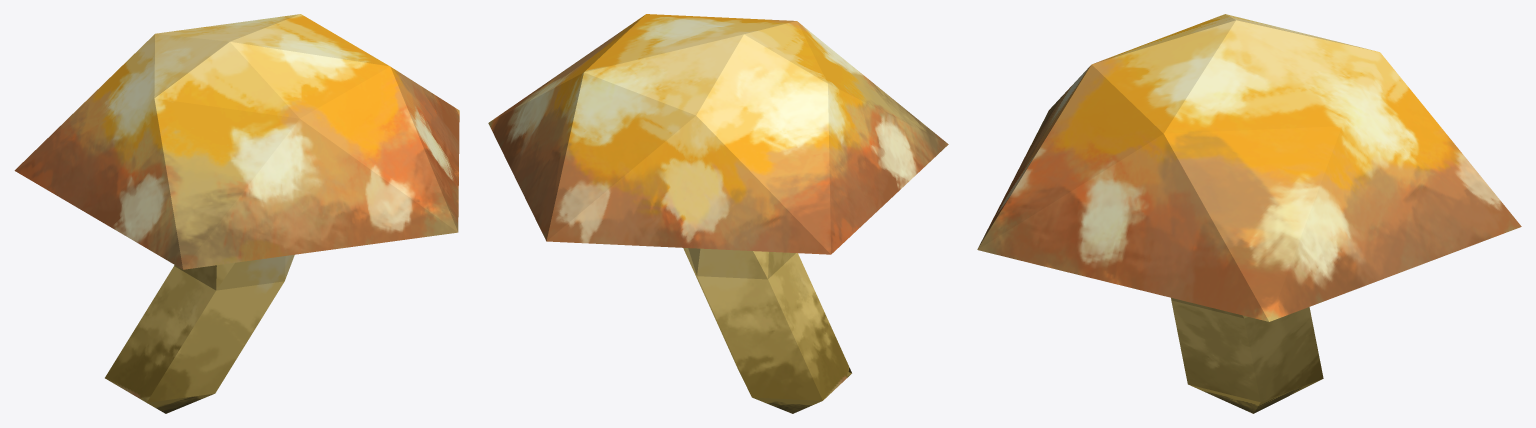
Rendered from mushroom02.fbx.
3 views of the same model, side by side, from view 1: azimuth 30°, elevation 25°; view 2: azimuth 150°, elevation 25°; view 3: azimuth 270°, elevation 25° (orthographic). The views are drawn at different scales.
Visible parts, largest first — view 1: mushroom02; view 2: mushroom02; view 3: mushroom02.
Boxes of the visible parts, x1,y1,x2,y2 form: mushroom02: [14, 14, 459, 413]; mushroom02: [488, 14, 948, 413]; mushroom02: [977, 14, 1521, 413].
Size of the model in its own units: 121 by 107 by 123.
1 material, 1 textured.
